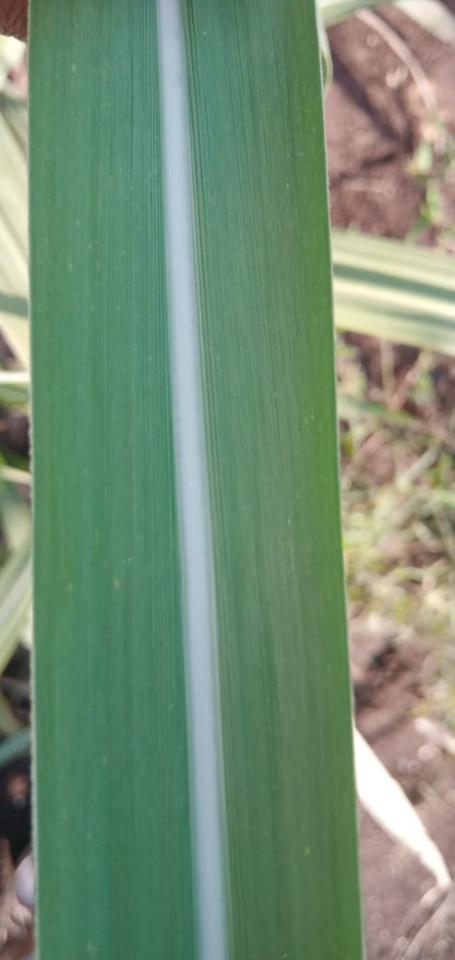Healthy: (30, 0, 362, 959)
